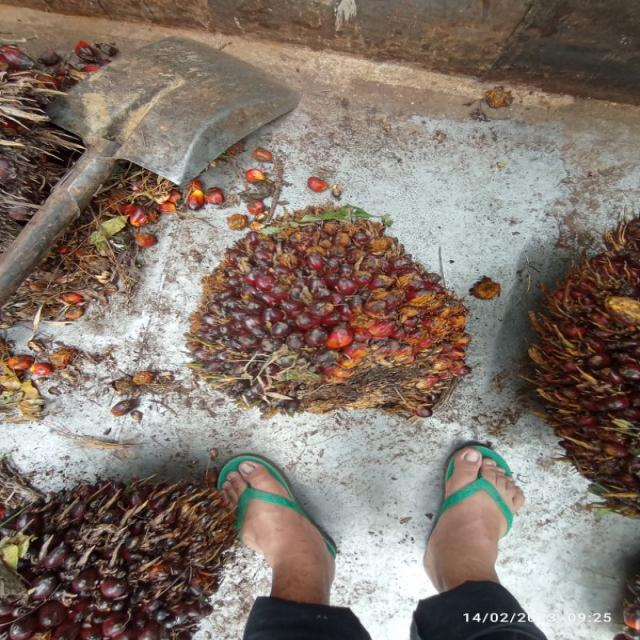fraksi 1: (186, 216, 471, 416)
